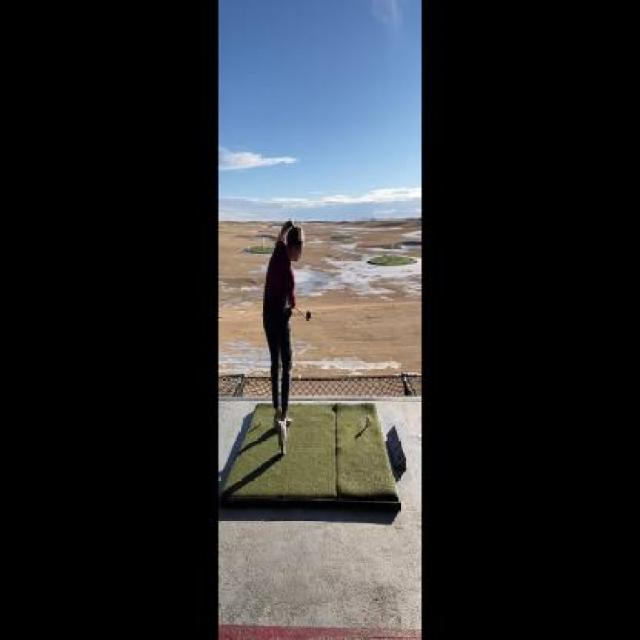club head: (302, 307, 312, 322)
